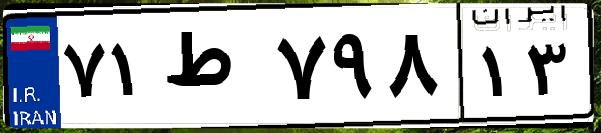1: (475, 38, 525, 113), (110, 28, 158, 98)
3: (525, 38, 570, 115)
7: (270, 28, 330, 110), (57, 26, 110, 100)
8: (385, 28, 445, 110)
9: (330, 28, 385, 110)
ط: (158, 20, 270, 120)
